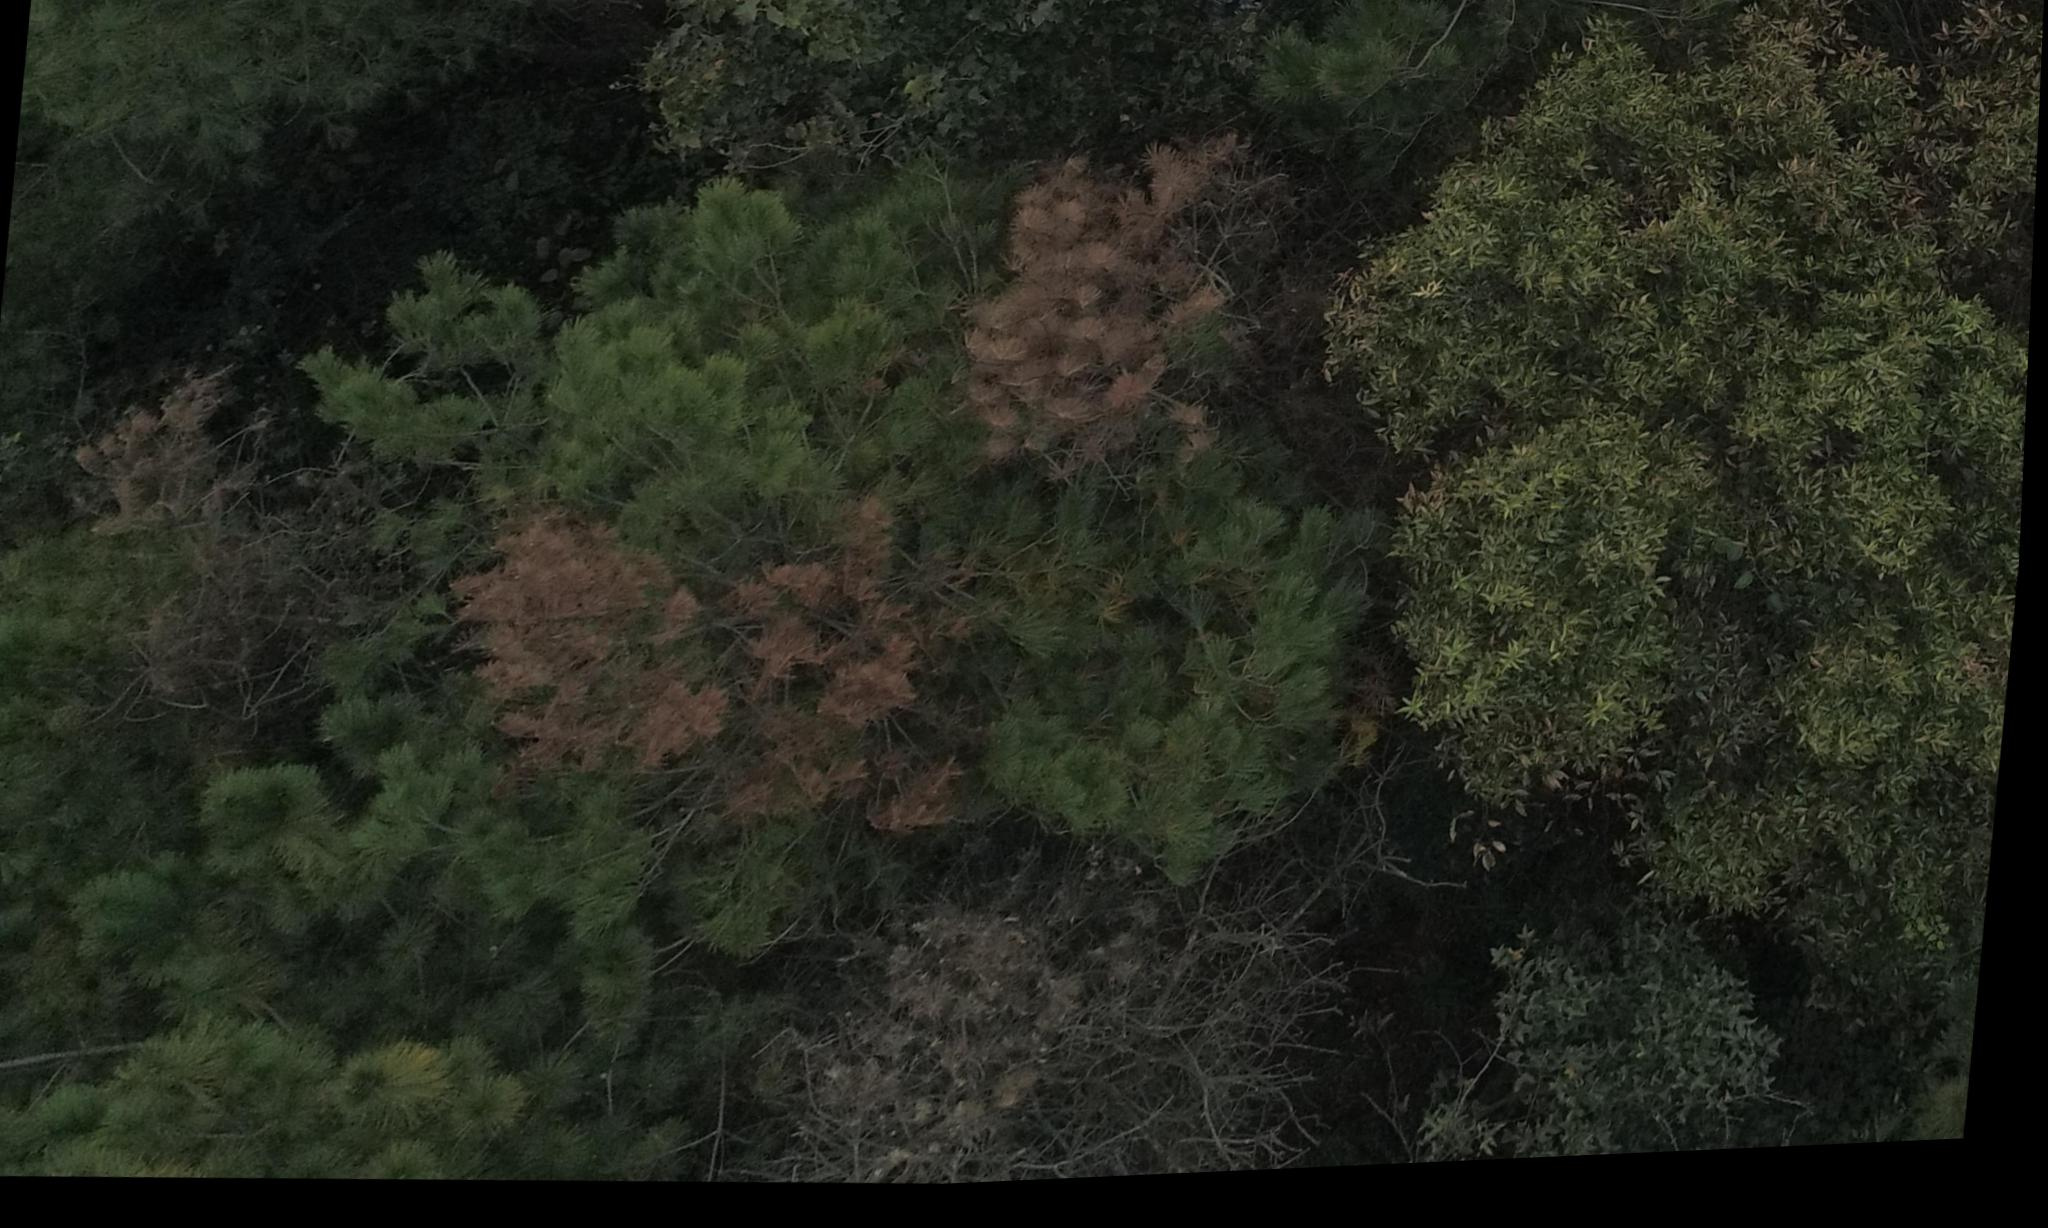heavy: (446, 484, 1001, 867), (949, 114, 1267, 506), (56, 346, 348, 728)
